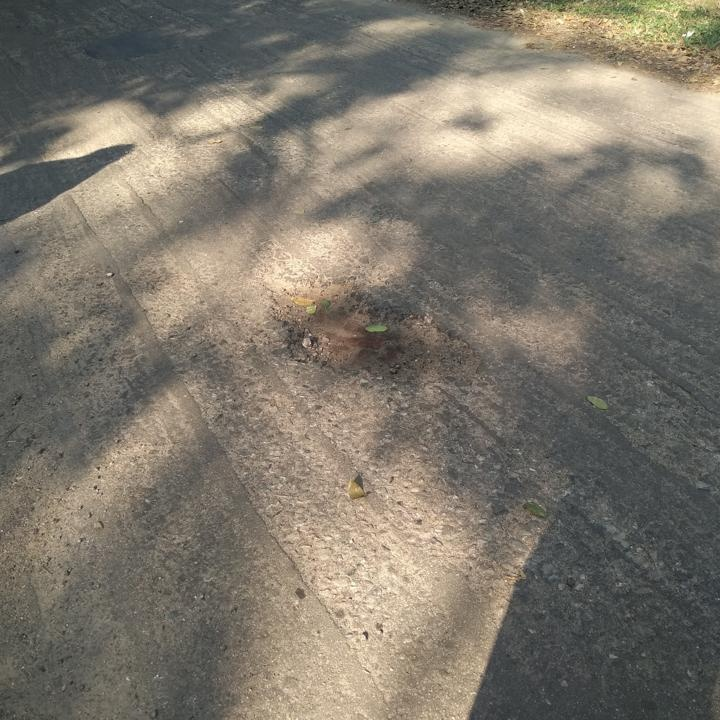pothole: (265, 274, 490, 394)
